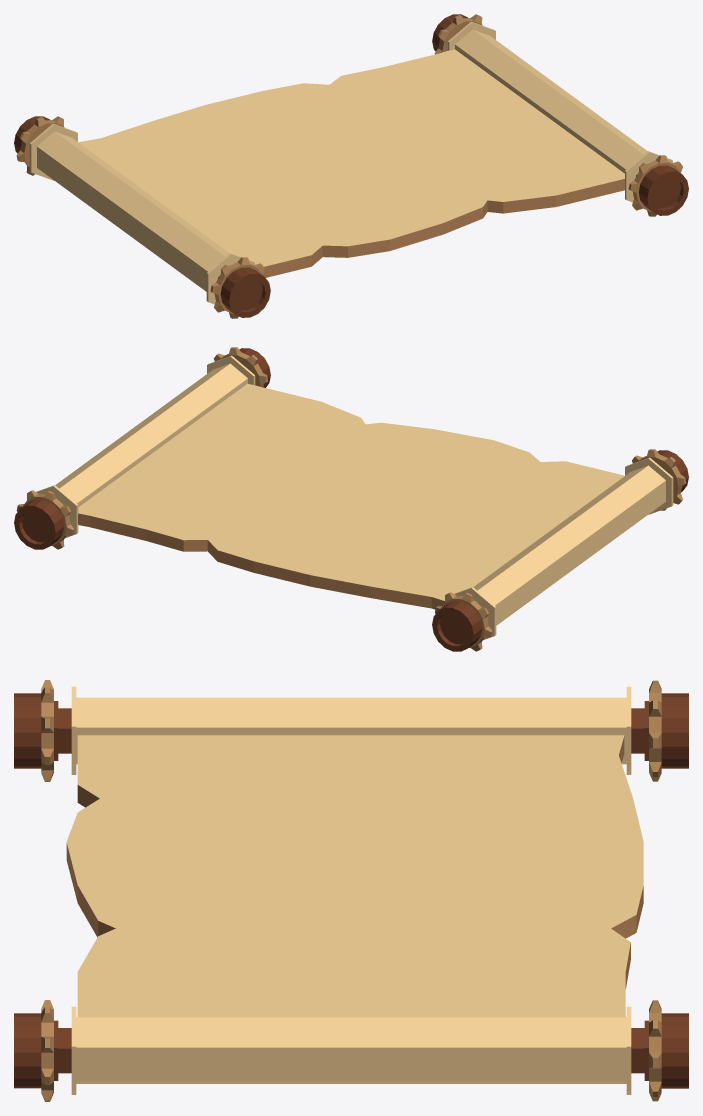
File: scroll.fbx
The picture shows the model from 3 angles, top to bottom: view 1: azimuth 30°, elevation 25°; view 2: azimuth 150°, elevation 25°; view 3: azimuth 270°, elevation 25°; orthographic projection. The views are drawn at different scales.
Parts seen in each view (by area): view 1: ScrollPaper, ScrollPipeLeft, ScrollPipeRight; view 2: ScrollPaper, ScrollPipeLeft, ScrollPipeRight; view 3: ScrollPaper, ScrollPipeRight, ScrollPipeLeft.
Part boxes in pixels (x1=…): ScrollPaper: x1=78, y1=49, x2=624, y2=277; ScrollPipeLeft: x1=14, y1=116, x2=270, y2=318; ScrollPipeRight: x1=432, y1=14, x2=688, y2=216; ScrollPaper: x1=78, y1=383, x2=624, y2=609; ScrollPipeLeft: x1=432, y1=449, x2=688, y2=651; ScrollPipeRight: x1=14, y1=347, x2=270, y2=549; ScrollPaper: x1=66, y1=735, x2=643, y2=1017; ScrollPipeRight: x1=14, y1=1000, x2=688, y2=1101; ScrollPipeLeft: x1=14, y1=680, x2=688, y2=781.
Size of the model in its own units: 185 by 21.84 by 145.
